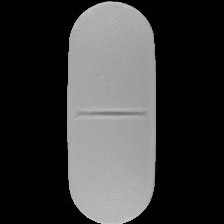61919-317: (0, 0, 224, 224)
